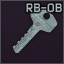RB-OB key: (0, 0, 64, 64)
